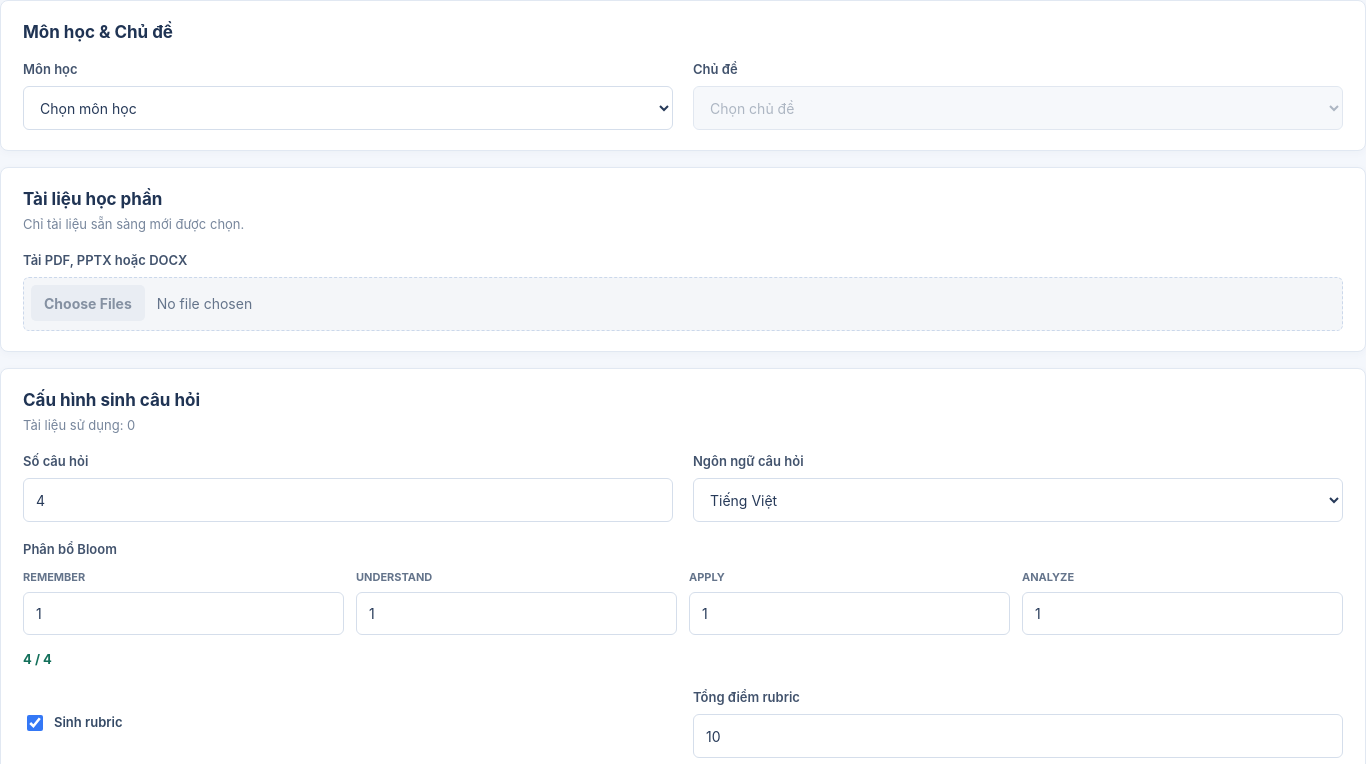
Test: GenerateQuestionPage subject and topic selection › loads topics for the selected subject and enables upload only after selecting a topic
Expected: the dropdown labelled "Chủ đề" is disabled, x1=693 y1=86 x2=1343 y2=130
Expected: the file field labelled "Tải PDF, PPTX hoặc DOCX" is disabled, x1=23 y1=277 x2=1343 y2=331
Select "SWD392 · Software Development Project" in the dropdown labelled "Môn học" at (348, 108), box x1=23 y1=86 x2=673 y2=130
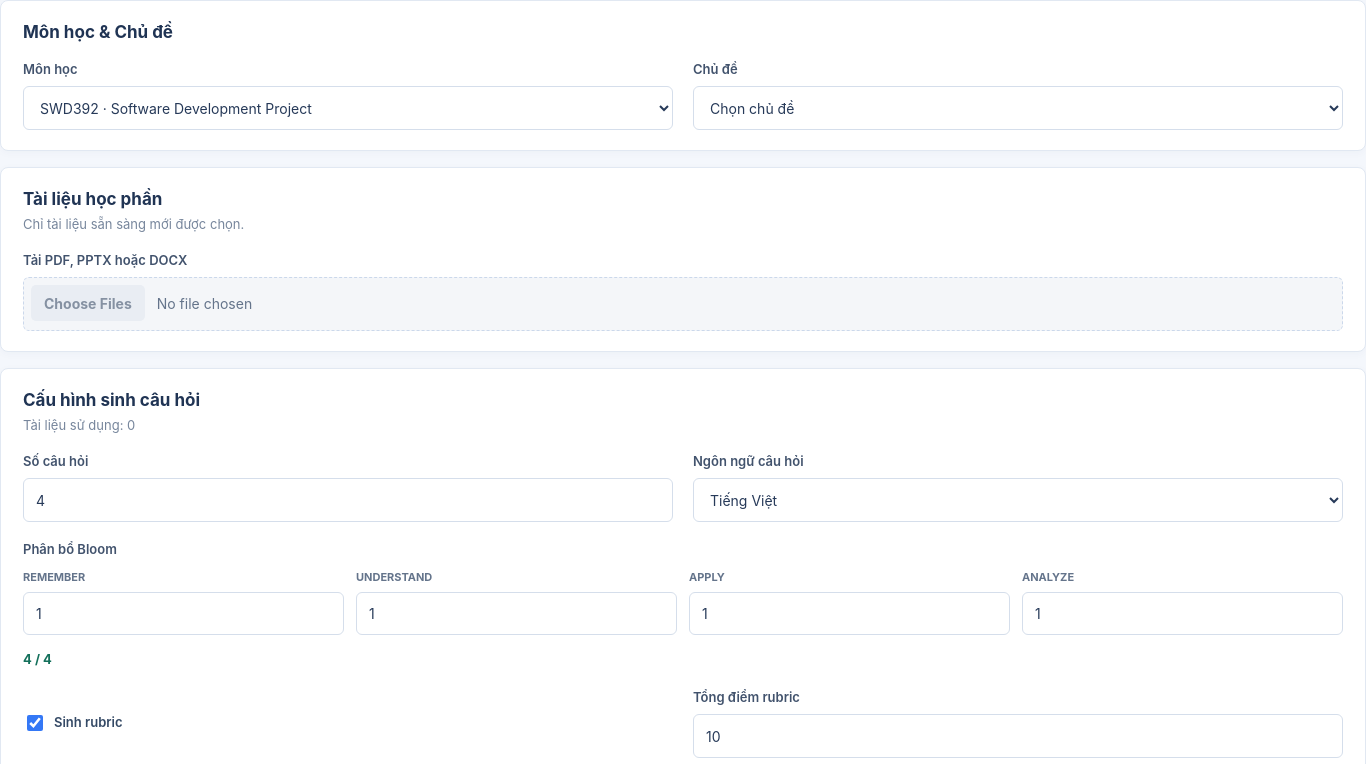
Expected: the file field labelled "Tải PDF, PPTX hoặc DOCX" is disabled, x1=23 y1=277 x2=1343 y2=331
Now the dropdown labelled "Chủ đề" is enabled
Select "TOPIC-001 · Lập trình Java cơ bản" in the dropdown labelled "Chủ đề" at (1018, 108), box x1=693 y1=86 x2=1343 y2=130
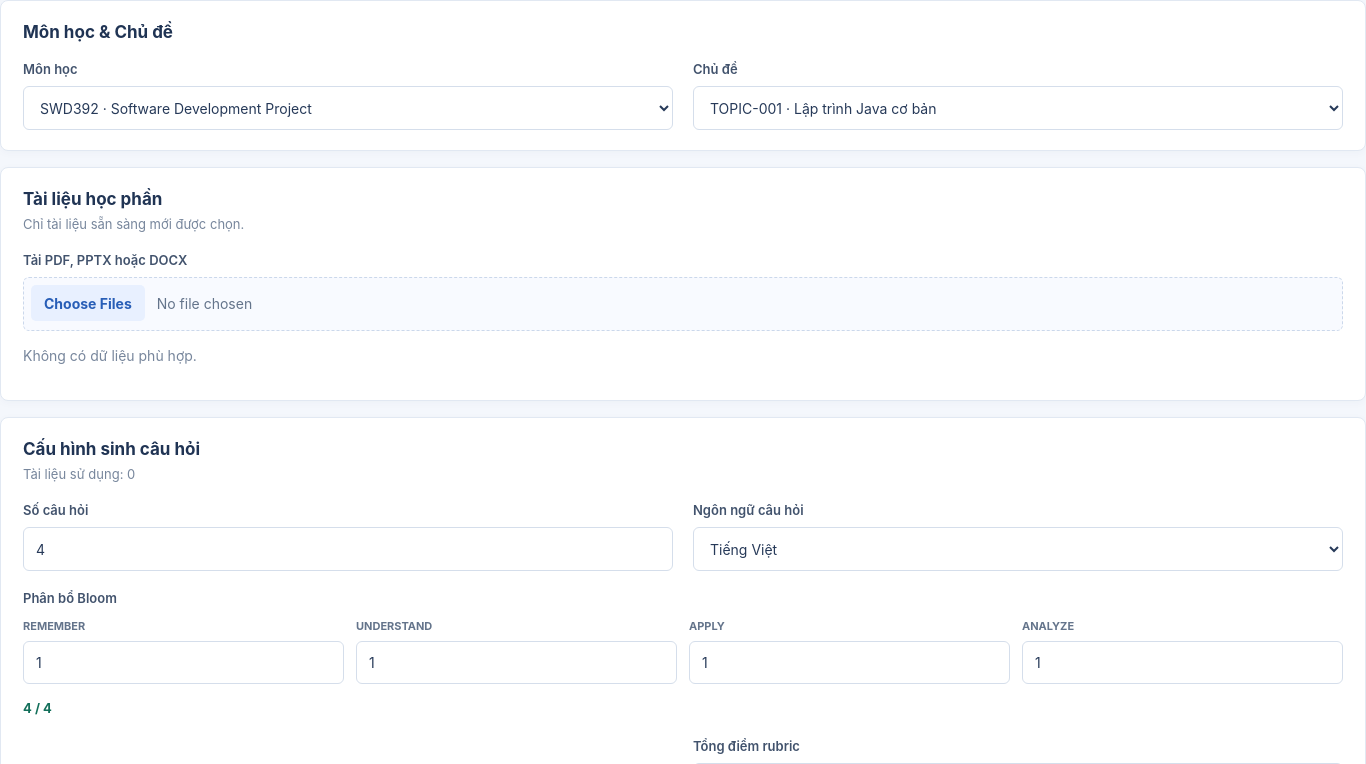
Now the file field labelled "Tải PDF, PPTX hoặc DOCX" is enabled, box x1=23 y1=277 x2=1343 y2=331
